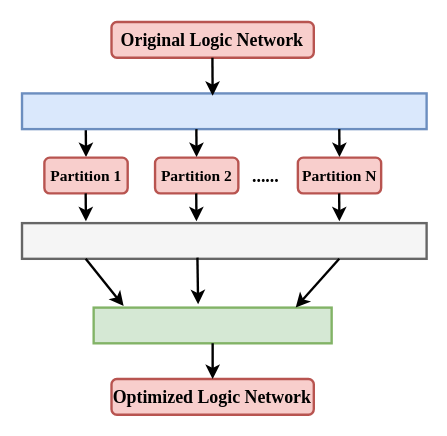
Some shapes in this 447 by 436 pixel diagram are drawn without their labels. Each missing label, with the box of its shape:
Circuit Merging: (92, 306, 332, 344)
Circuit Partitioning: (20, 92, 427, 130)
RL_based Logic Optimizer: (20, 221, 427, 259)
